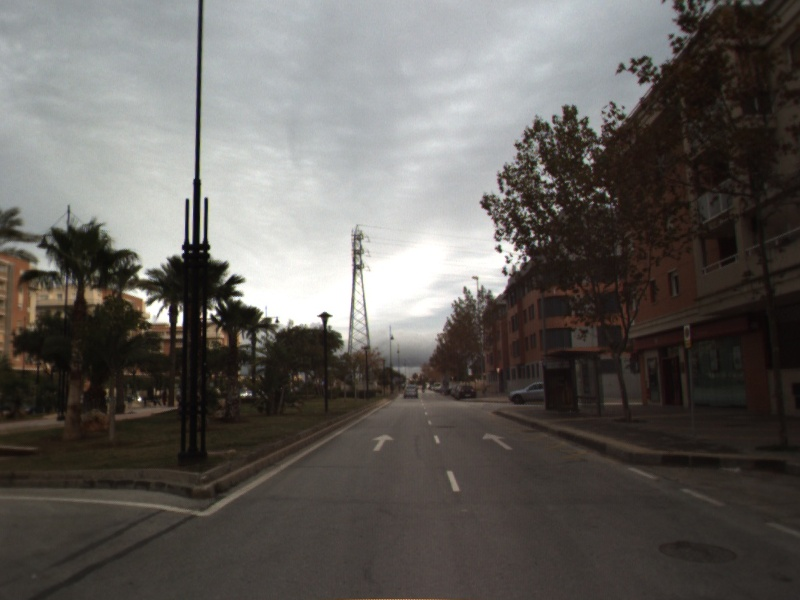STRAIGHT: (481, 431, 515, 452), (370, 432, 396, 453)
